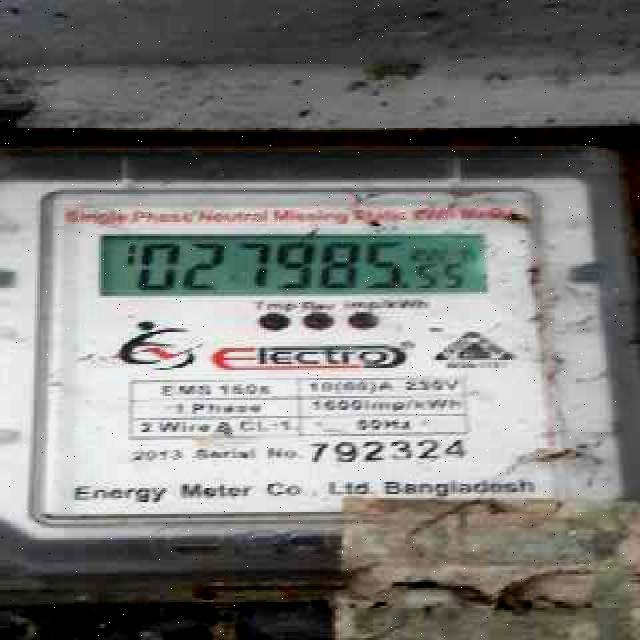LCD: (85, 226, 499, 303)
